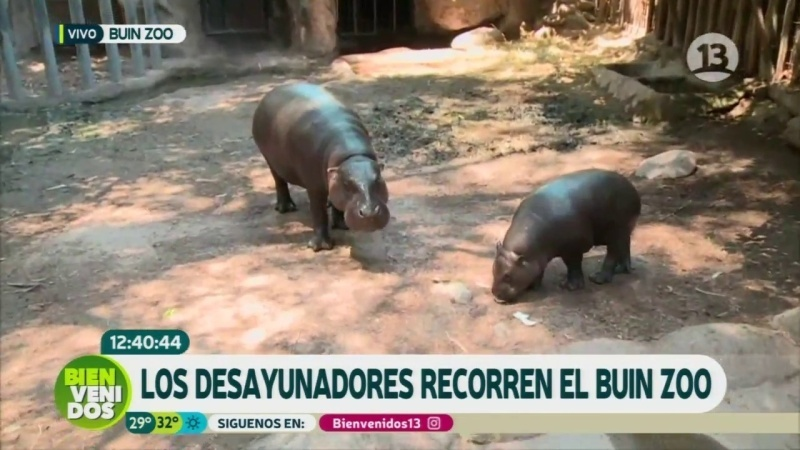hipopotamo: (239, 71, 416, 266), (476, 161, 659, 315)
